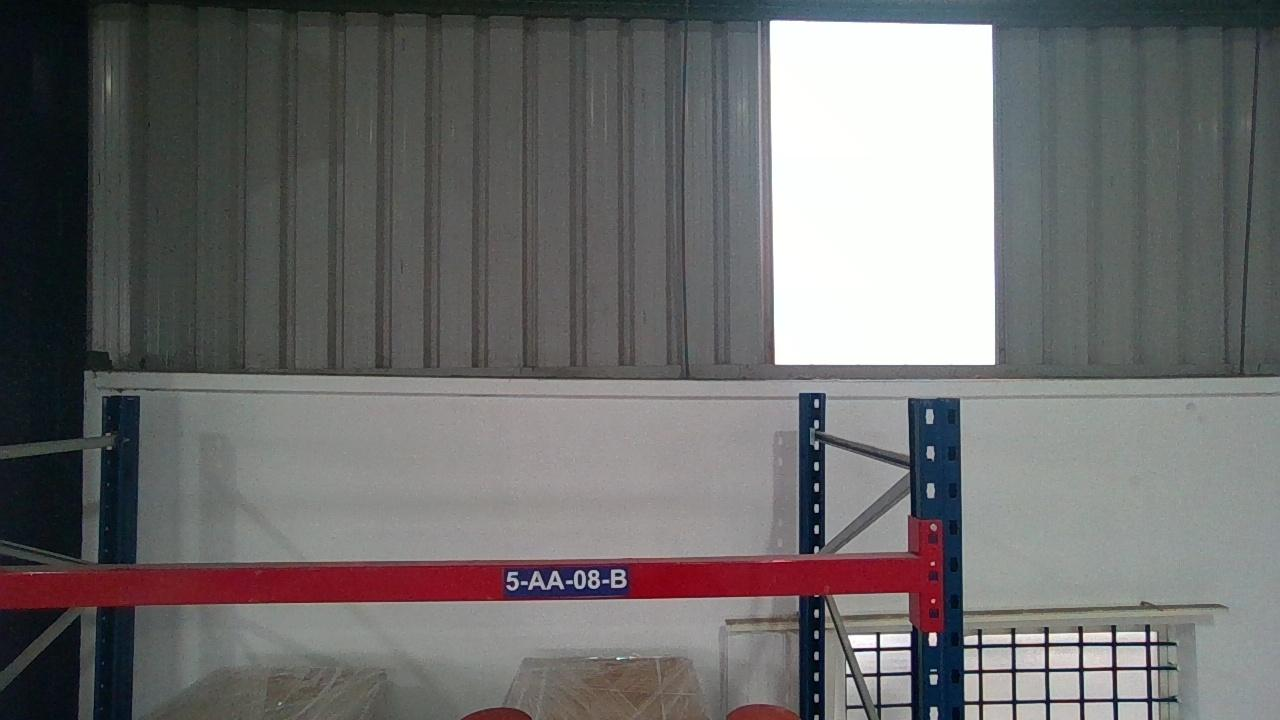h_rack: (3, 560, 924, 605)
